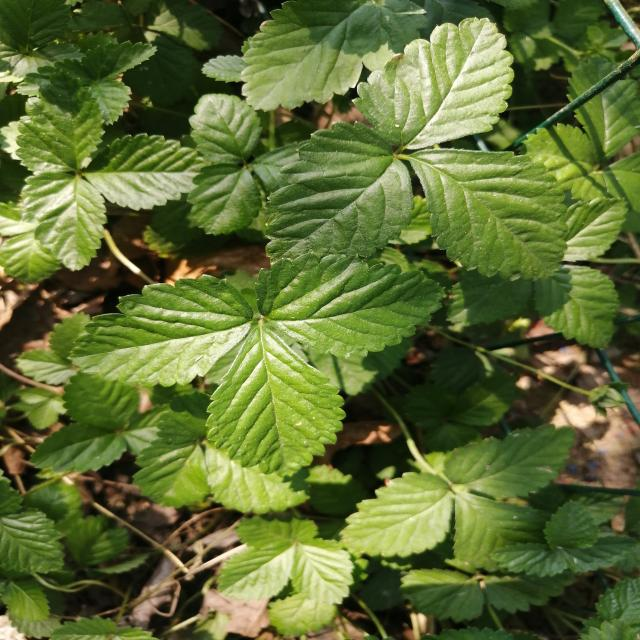Mock_strawberry: (208, 31, 597, 310), (92, 256, 436, 464)
